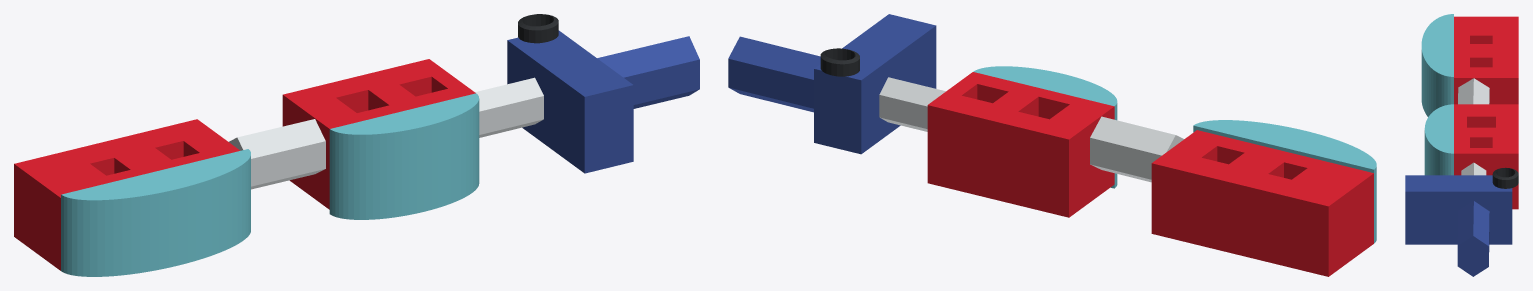
File: tinker.obj
The picture shows the model from 3 angles, left to right: view 1: azimuth 30°, elevation 25°; view 2: azimuth 150°, elevation 25°; view 3: azimuth 270°, elevation 25°; orthographic projection. The views are drawn at different scales.
Parts seen in each view (by area): view 1: group_0_7720667, group_0_15277357, group_0_3888547, group_0_14541540, group_0_2829873; view 2: group_0_15277357, group_0_3888547, group_0_7720667, group_0_14541540, group_0_2829873; view 3: group_0_15277357, group_0_3888547, group_0_7720667, group_0_14541540, group_0_2829873.
Boxes of the visible parts, bbox=[...] form: group_0_7720667: bbox=[61, 93, 479, 276]; group_0_15277357: bbox=[14, 59, 475, 270]; group_0_3888547: bbox=[507, 30, 699, 173]; group_0_14541540: bbox=[229, 77, 543, 189]; group_0_2829873: bbox=[518, 14, 558, 43]; group_0_15277357: bbox=[927, 72, 1373, 276]; group_0_3888547: bbox=[728, 14, 936, 154]; group_0_7720667: bbox=[973, 66, 1376, 243]; group_0_14541540: bbox=[879, 77, 1184, 182]; group_0_2829873: bbox=[820, 48, 859, 76]; group_0_15277357: bbox=[1454, 16, 1518, 209]; group_0_3888547: bbox=[1405, 175, 1512, 276]; group_0_7720667: bbox=[1421, 14, 1453, 175]; group_0_14541540: bbox=[1458, 78, 1489, 175]; group_0_2829873: bbox=[1492, 167, 1518, 188].
Bounding box in the file's own units: 158 × 25 × 35.
